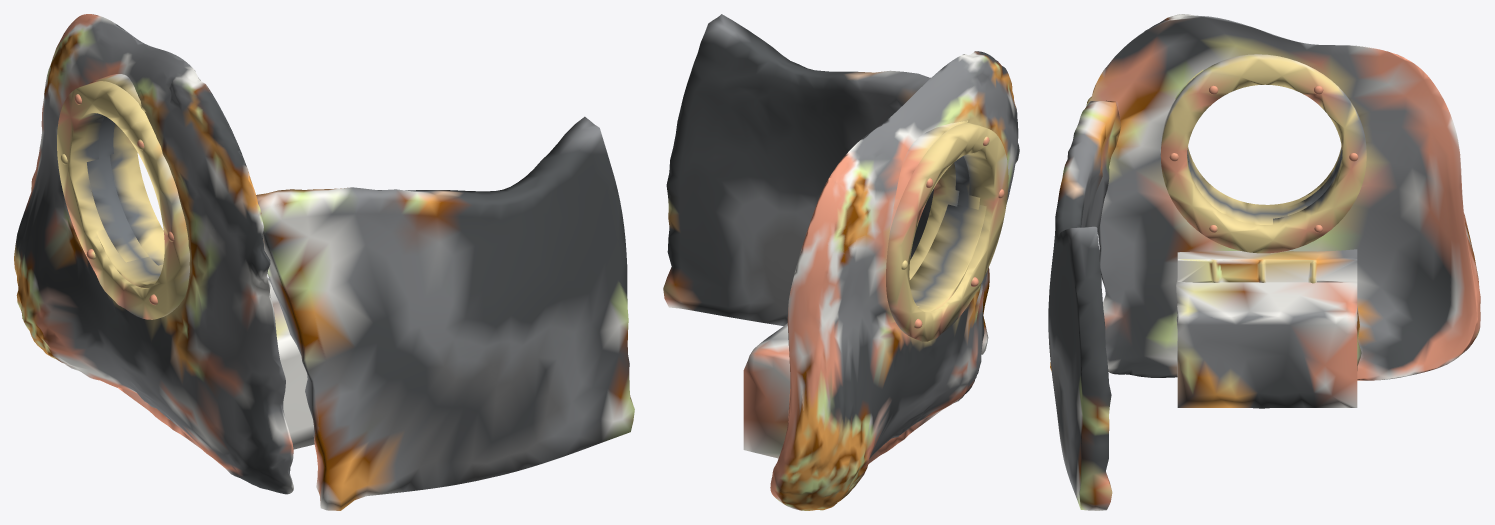
Rendered from SubmarineRoom.fbx.
3 renders of one model, left to right at view 1: azimuth 30°, elevation 25°; view 2: azimuth 150°, elevation 25°; view 3: azimuth 270°, elevation 25°, orthographic. The views are drawn at different scales.
Visible parts, largest first — view 1: Box; view 2: Box; view 3: Box.
Part boxes in pixels (x1,y1,x2,y2): Box: (14,14,634,510); Box: (663,14,1019,510); Box: (1048,14,1480,510).
Bounding box in the file's own units: 617 × 573 × 650.
1 material, 1 textured.
